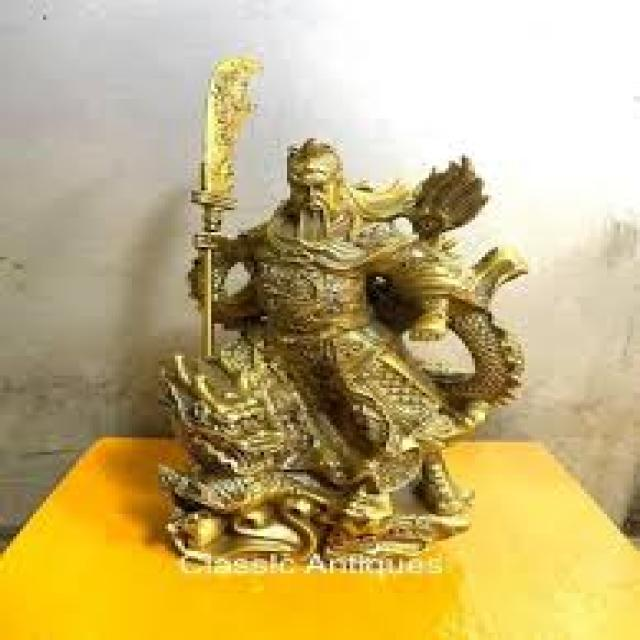Guan Yu: (216, 137, 434, 390)
